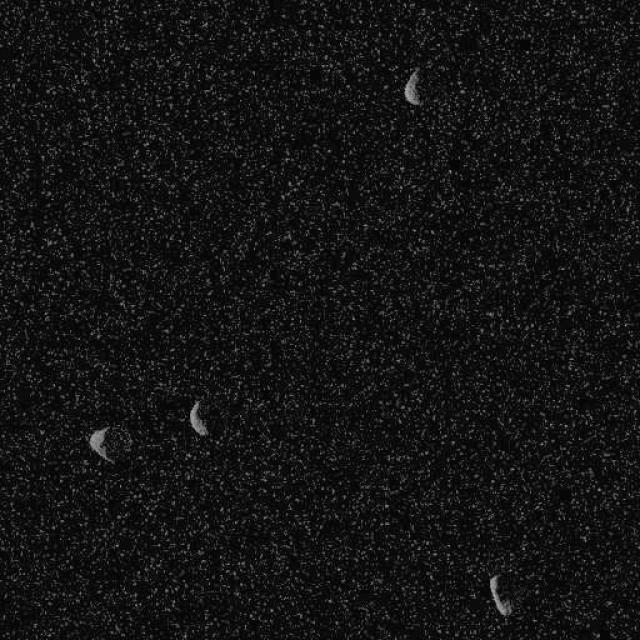D2: (488, 572, 512, 616), (88, 425, 114, 464), (402, 66, 422, 106), (188, 400, 208, 436)
